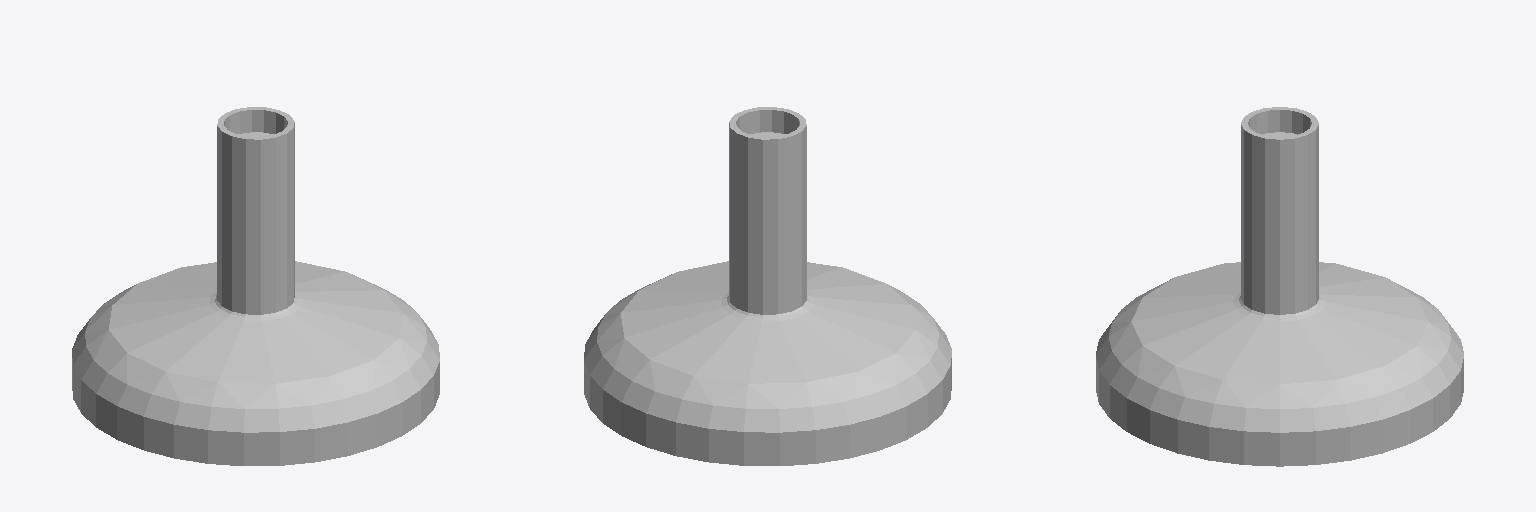
File: body.obj
The picture shows the model from 3 angles: view 1: azimuth 30°, elevation 25°; view 2: azimuth 150°, elevation 25°; view 3: azimuth 270°, elevation 25°; orthographic projection.
Visible parts, largest first — view 1: body_円柱.002; view 2: body_円柱.002; view 3: body_円柱.002.
Boxes of the visible parts, x1=… form: body_円柱.002: x1=72, y1=107, x2=439, y2=465; body_円柱.002: x1=584, y1=107, x2=951, y2=465; body_円柱.002: x1=1096, y1=107, x2=1463, y2=466.
Size of the model in its own units: 5.51 by 4.37 by 5.51.